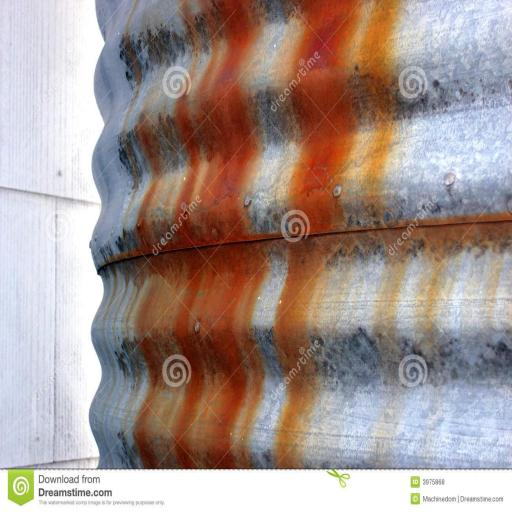segmentation: (133, 245, 263, 468), (293, 0, 360, 233), (176, 0, 256, 194), (161, 167, 245, 250), (293, 69, 351, 167), (275, 246, 317, 368), (276, 368, 314, 467), (302, 0, 362, 56), (411, 219, 512, 241)
